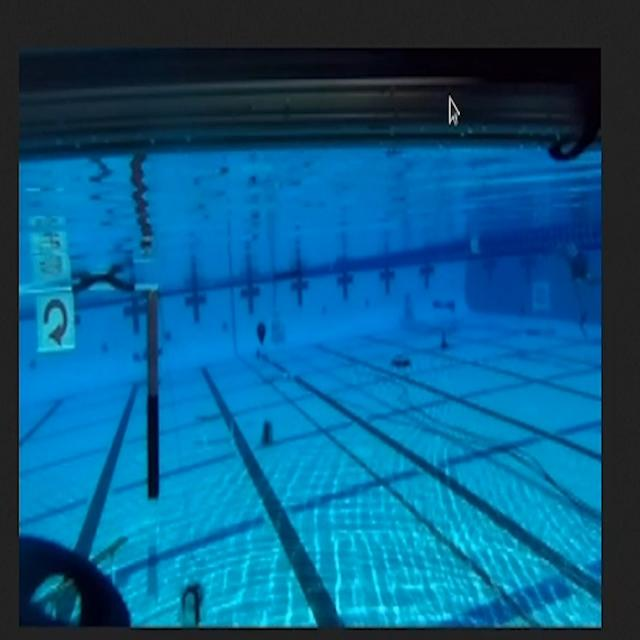Gate: (27, 258, 169, 512)
